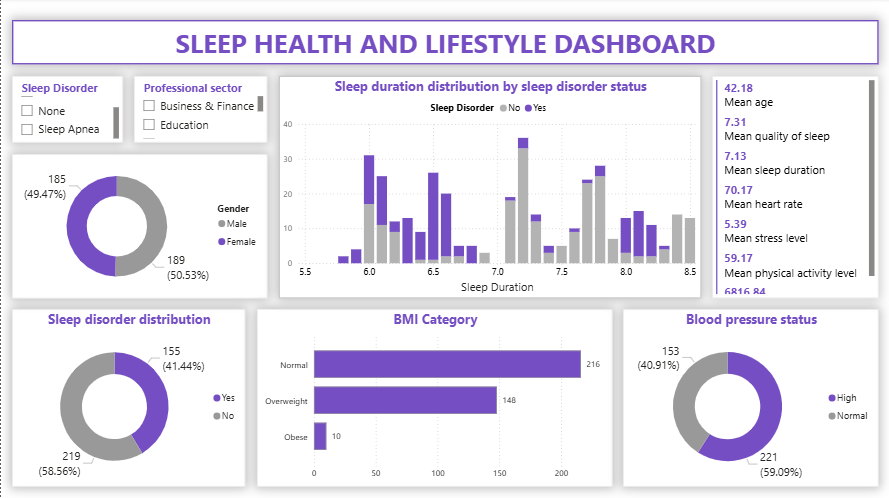

What the dashboard file says about the page in this screenshot:
{"tool":"powerbi","page":{"name":"Page 1","canvas":[1280,720],"ordinal":0},"visuals":[{"type":"textbox","box":[16,32,1248,64],"z":0},{"type":"donutChart","title":"Sleep disorder distribution","fields":{"Y":["CountNonNull(sleep_dataset_cleaned.Column1)"],"Category":["sleep_dataset_cleaned.Sleep_Disorder_Flag"]},"box":[16,448,336,256],"z":1000},{"type":"donutChart","title":"Gender distribution","fields":{"Category":["sleep_dataset_cleaned.Gender"],"Y":["CountNonNull(sleep_dataset_cleaned.Column1)"]},"box":[16,224,368,208],"z":2000},{"type":"slicer","fields":{"Values":["sleep_dataset_cleaned.Sleep Disorder"]},"box":[16,112,160,96],"z":3000},{"type":"slicer","fields":{"Values":["sleep_dataset_cleaned.Occupation_Group"]},"box":[192,112,192,96],"z":4000},{"type":"barChart","title":"BMI Category","fields":{"Category":["sleep_dataset_cleaned.BMI Category"],"Y":["CountNonNull(sleep_dataset_cleaned.Column1)"]},"box":[368,448,512,256],"z":5000},{"type":"donutChart","title":"Blood pressure status","fields":{"Y":["CountNonNull(sleep_dataset_cleaned.Column1)"],"Category":["sleep_dataset_cleaned.BP_Category"]},"box":[896,448,368,256],"z":6000},{"type":"multiRowCard","fields":{"Values":["Avg(sleep_dataset_cleaned.Age)","Avg(sleep_dataset_cleaned.Quality of Sleep)","Avg(sleep_dataset_cleaned.Sleep Duration)","Avg(sleep_dataset_cleaned.Heart Rate)","Avg(sleep_dataset_cleaned.Stress Level)","Avg(sleep_dataset_cleaned.Physical Activity Level)","Avg(sleep_dataset_cleaned.Daily Steps)"]},"box":[1024,112,240,320],"z":7000},{"type":"columnChart","title":"Sleep duration distribution by sleep disorder status","fields":{"Category":["sleep_dataset_cleaned.Sleep Duration"],"Y":["CountNonNull(sleep_dataset_cleaned.Person ID)"],"Series":["sleep_dataset_cleaned.Sleep_Disorder_Flag"]},"box":[400,112,608,320],"z":8000}]}

Visuals, with their boxes in screenshot pixels (x1, y1, x2, y2), scaled from the page's 1280x720 canvas onto the 889x498 screenshot:
textbox: locate(11, 22, 878, 66)
"Sleep disorder distribution" donutChart: locate(11, 310, 244, 487)
"Gender distribution" donutChart: locate(11, 155, 267, 299)
slicer - sleep_dataset_cleaned.Sleep Disorder: locate(11, 77, 122, 144)
slicer - sleep_dataset_cleaned.Occupation_Group: locate(133, 77, 267, 144)
"BMI Category" barChart: locate(256, 310, 611, 487)
"Blood pressure status" donutChart: locate(622, 310, 878, 487)
multiRowCard - Avg(sleep_dataset_cleaned.Age) x Avg(sleep_dataset_cleaned.Quality of Sleep): locate(711, 77, 878, 299)
"Sleep duration distribution by sleep disorder status" columnChart: locate(278, 77, 700, 299)
